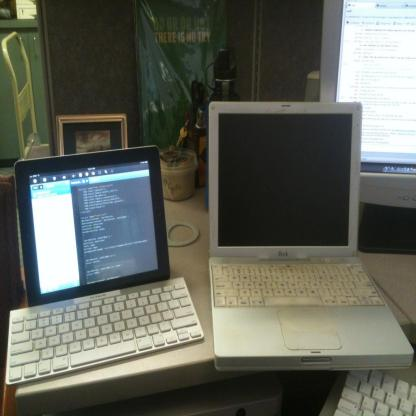board: (208, 101, 414, 373), (6, 146, 204, 386)
